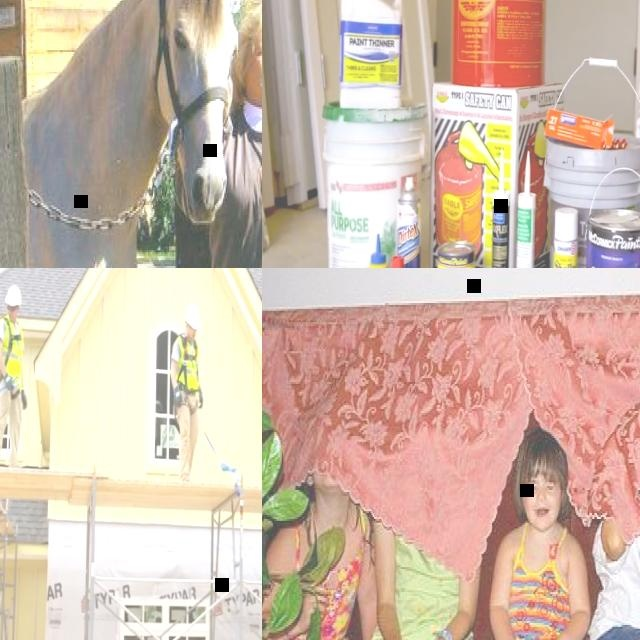Hardhat: (5, 285, 23, 307), (185, 304, 201, 328)
NO-Hardhat: (519, 436, 564, 481), (245, 2, 262, 44)
NO-Mask: (527, 502, 557, 531), (315, 468, 343, 494), (250, 65, 262, 101), (189, 331, 196, 341), (10, 312, 17, 322)
NO-Safety Vest: (387, 528, 463, 640), (208, 112, 262, 268), (288, 530, 364, 640), (508, 528, 571, 640), (600, 513, 640, 639)
Person: (428, 432, 607, 640), (262, 460, 380, 640), (329, 505, 475, 640), (212, 0, 262, 268), (591, 460, 640, 640), (170, 303, 205, 481), (0, 285, 29, 468)
Safety Vest: (0, 315, 23, 389), (176, 334, 200, 390)
